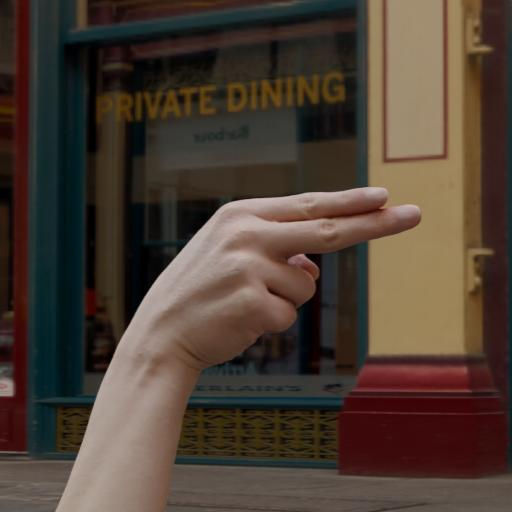H: (110, 180, 424, 393)
